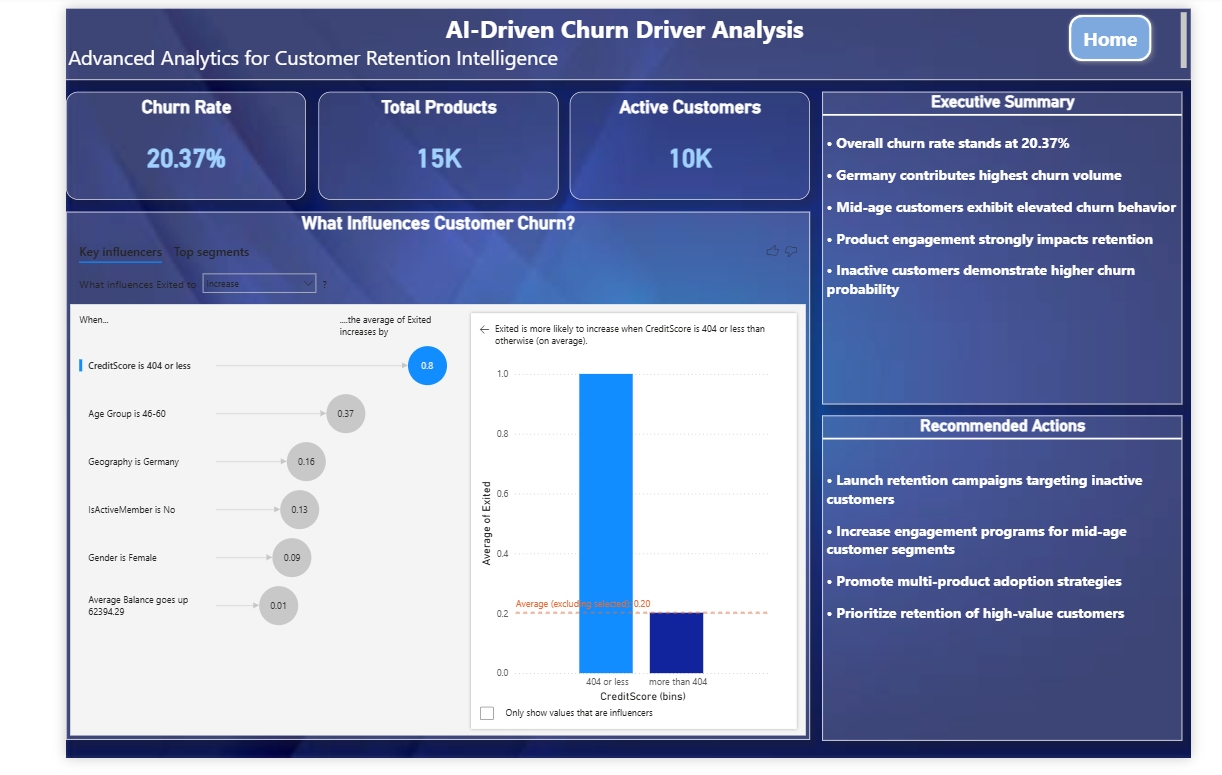

The page's visual inventory and layout, read from the dashboard file:
{"tool":"powerbi","page":{"name":"Churn Drivers Analysis","canvas":[1500,1000],"ordinal":4},"visuals":[{"type":"keyDriversVisual","title":"What Influences Customer Churn?","fields":{"Target":["Account_Info.Exited"],"ExplainBy":["Customer_Info.Age Group","Customer_Info.Geography","Customer_Info.Gender","Account_Info.IsActiveMember","Customer_Info.Average Balance","Customer_Info.CreditScore","Customer_Info.EstimatedSalary","Customer_Info.Tenure"]},"box":[0,272,992,704],"z":0},{"type":"textbox","title":"Executive Summary","box":[1008,112,464,416],"z":1000},{"type":"textbox","box":[-4,0,1504,96],"z":2000},{"type":"card","title":"Churn Rate","fields":{"Values":["Customer_Info.Churn Rate"]},"box":[0,112,320,144],"z":3000},{"type":"card","title":"Total Products","fields":{"Values":["Sum(Account_Info.NumOfProducts)"]},"box":[336,112,320,144],"z":4000},{"type":"card","title":"Active Customers","fields":{"Values":["Customer_Info.Total Customers"]},"box":[672,112,320,144],"z":5000},{"type":"textbox","title":"Recommended Actions","box":[1008,544,464,432],"z":6000},{"type":"actionButton","box":[1328,0,128,80],"z":7000}]}

Visuals, with their boxes in screenshot pixels (x1, y1, x2, y2):
"What Influences Customer Churn?" keyDriversVisual: (x1=60, y1=215, x2=820, y2=754)
"Executive Summary" textbox: (x1=832, y1=92, x2=1188, y2=411)
textbox: (x1=57, y1=6, x2=1209, y2=80)
"Churn Rate" card: (x1=60, y1=92, x2=305, y2=202)
"Total Products" card: (x1=318, y1=92, x2=563, y2=202)
"Active Customers" card: (x1=575, y1=92, x2=820, y2=202)
"Recommended Actions" textbox: (x1=832, y1=423, x2=1188, y2=754)
actionButton: (x1=1077, y1=6, x2=1175, y2=68)
